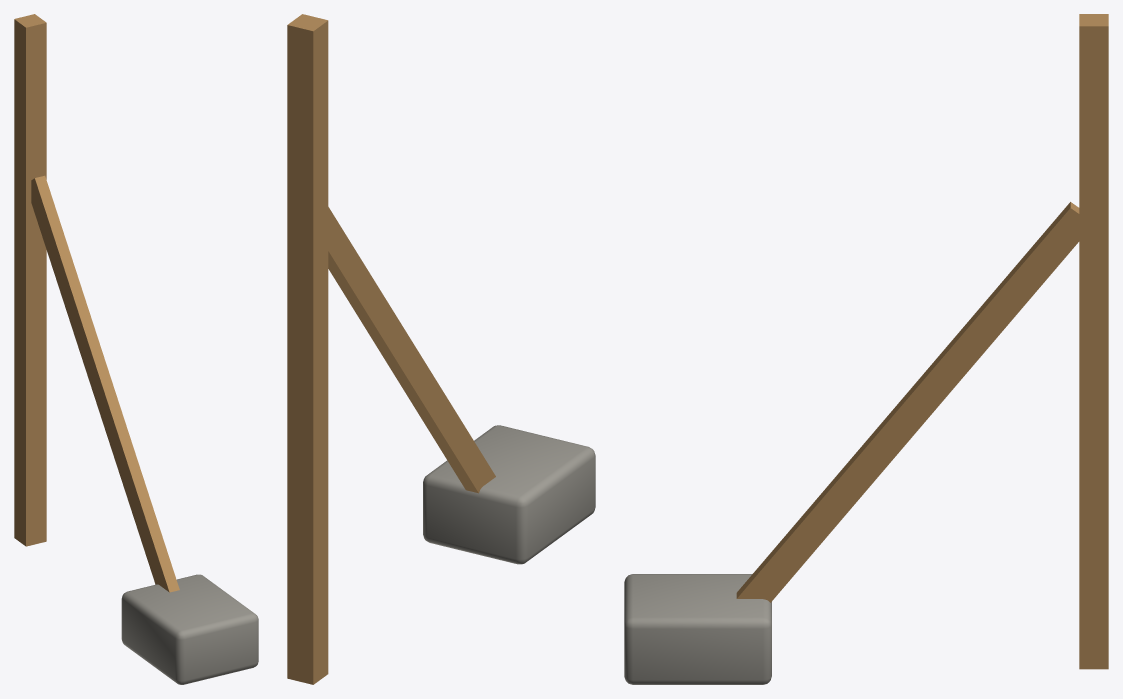
Rendered from plant.fence.hoarding_post.glb.
3 views of the same model, side by side, from view 1: azimuth 30°, elevation 25°; view 2: azimuth 150°, elevation 25°; view 3: azimuth 270°, elevation 25° (orthographic). The views are drawn at different scales.
Parts seen in each view (by area): view 1: main__softwood, main__concrete; view 2: main__softwood, main__concrete; view 3: main__softwood, main__concrete.
Boxes of the visible parts, x1=… form: main__softwood: x1=14, y1=14, x2=179, y2=592; main__concrete: x1=121, y1=574, x2=258, y2=684; main__softwood: x1=287, y1=14, x2=495, y2=684; main__concrete: x1=423, y1=425, x2=595, y2=564; main__softwood: x1=736, y1=14, x2=1108, y2=669; main__concrete: x1=624, y1=574, x2=771, y2=684.
Size of the model in its own units: 0.4 by 2.43 by 1.64.
